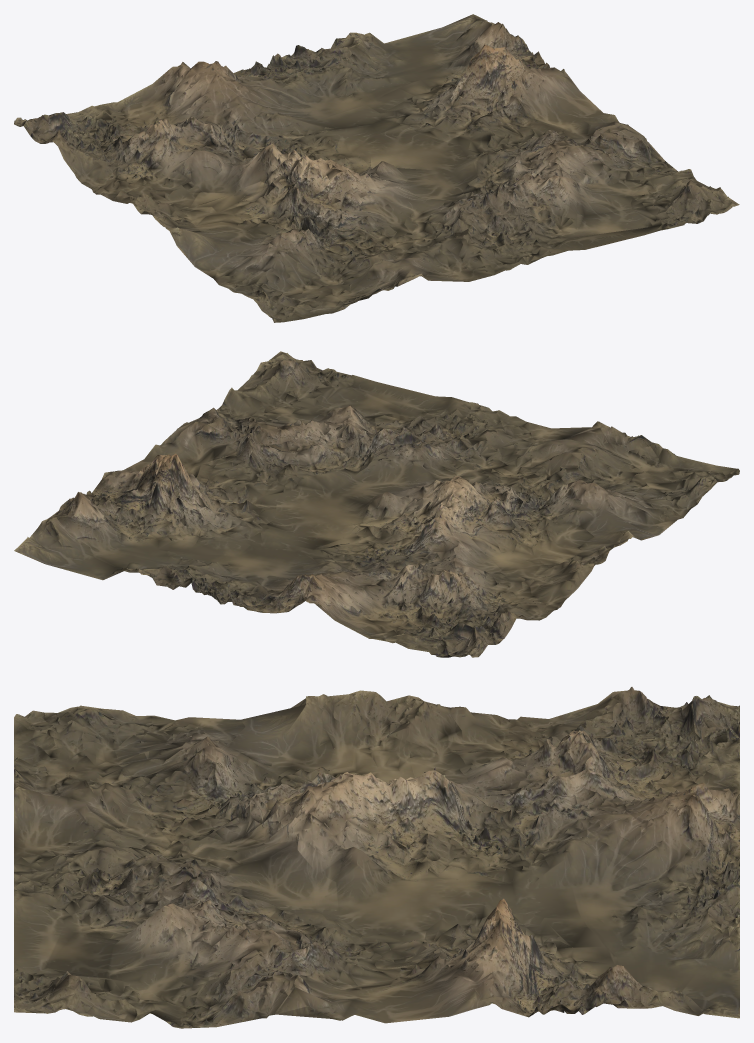
Rendered from desert.glb.
The picture shows the model from 3 angles, top to bottom: view 1: azimuth 30°, elevation 25°; view 2: azimuth 150°, elevation 25°; view 3: azimuth 270°, elevation 25°; orthographic projection. The views are drawn at different scales.
Visible parts, largest first — view 1: Object_2; view 2: Object_2; view 3: Object_2.
Part boxes in pixels (bbox=[...]): Object_2: bbox=[14, 14, 739, 322]; Object_2: bbox=[14, 351, 739, 657]; Object_2: bbox=[14, 687, 739, 1028].
Bounding box in the file's own units: 1 × 0.1231 × 1.
Materials: 1 (1 with a texture image).
